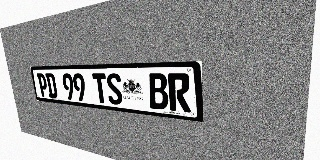9: (72, 73, 87, 101), (61, 73, 76, 100)
B: (147, 73, 169, 110)
D: (45, 73, 58, 98)
P: (37, 73, 49, 97)
R: (168, 73, 191, 113)
S: (105, 73, 123, 105)
T: (92, 73, 109, 104)
